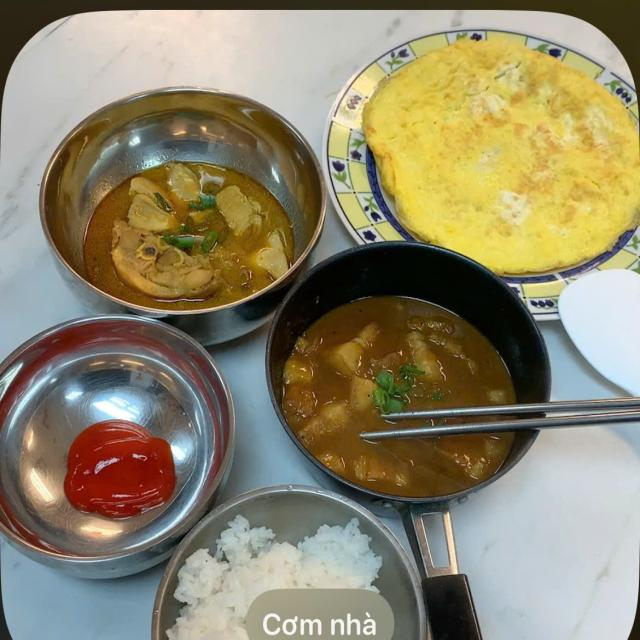trung_chien: (381, 61, 628, 248)
